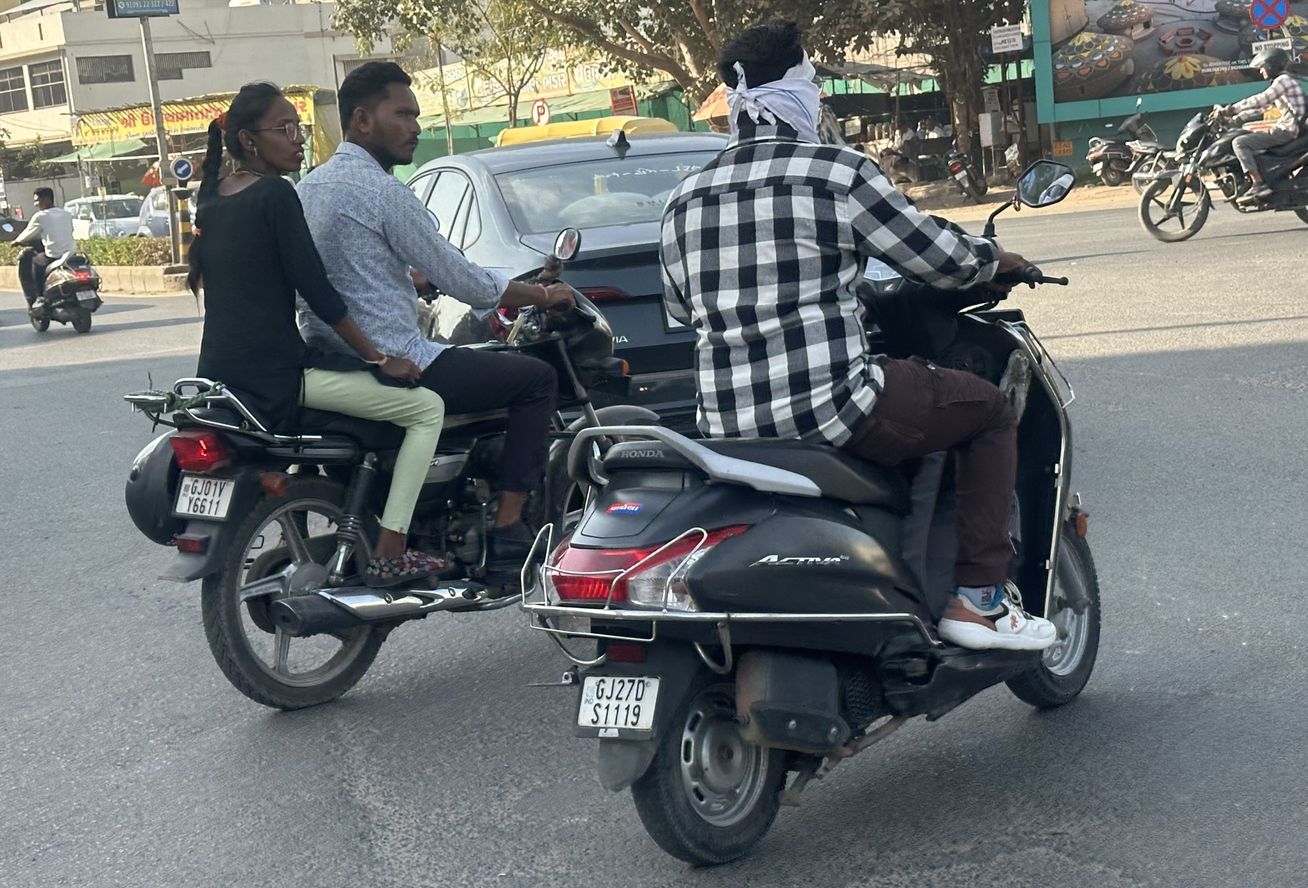BikeWithRider: (510, 10, 1116, 878), (112, 54, 672, 720), (1130, 37, 1308, 251), (0, 176, 109, 342)
Helmet: (1245, 42, 1295, 85)
NoHelmet: (710, 16, 838, 150), (332, 54, 440, 175), (210, 75, 316, 180), (29, 182, 62, 215)
